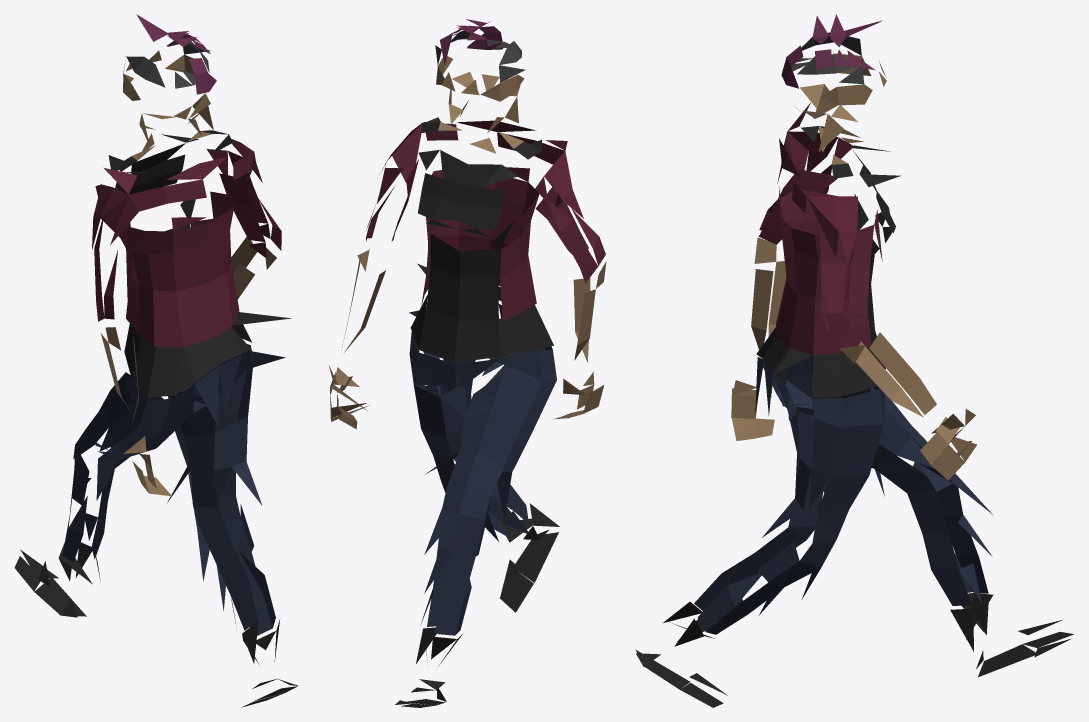
The model's file is personfar_8_w1.fbx.
The picture shows the model from 3 angles, left to right: view 1: azimuth 30°, elevation 25°; view 2: azimuth 150°, elevation 25°; view 3: azimuth 270°, elevation 25°; orthographic projection. The views are drawn at different scales.
Parts seen in each view (by area): view 1: Female; view 2: Female; view 3: Female.
Part boxes in pixels (x1,y1,x2,y2): Female: (14,14,298,707); Female: (328,19,606,707); Female: (635,14,1073,707).
Size of the model in its own units: 0.3266 by 0.995 by 0.588.
